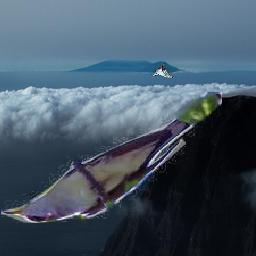Cuckoo: (2, 93, 223, 224)
Woodpecker: (150, 64, 174, 79)
